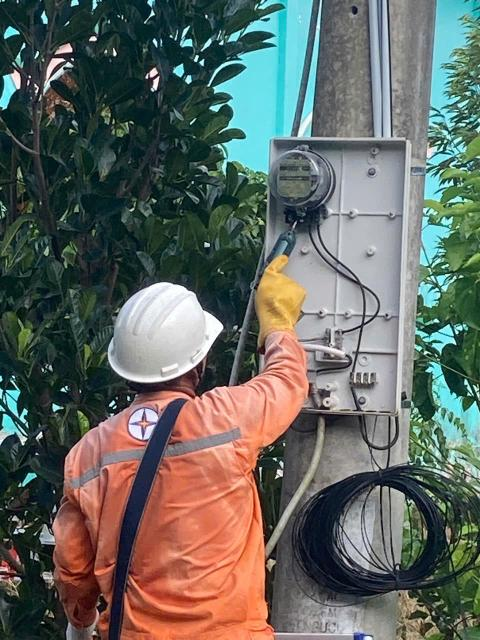gloves: (231, 251, 328, 350), (47, 604, 113, 640)
helmet: (92, 279, 240, 392)
